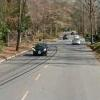Car: (29, 39, 54, 59)
